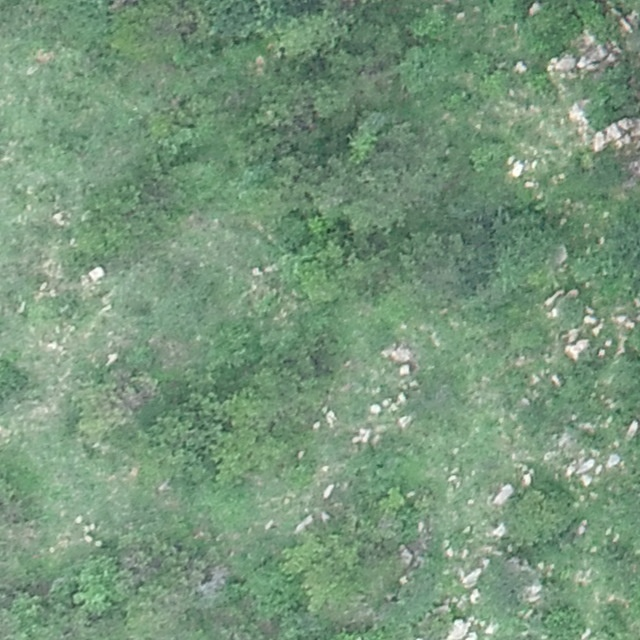unhealthy: (197, 562, 233, 601)
